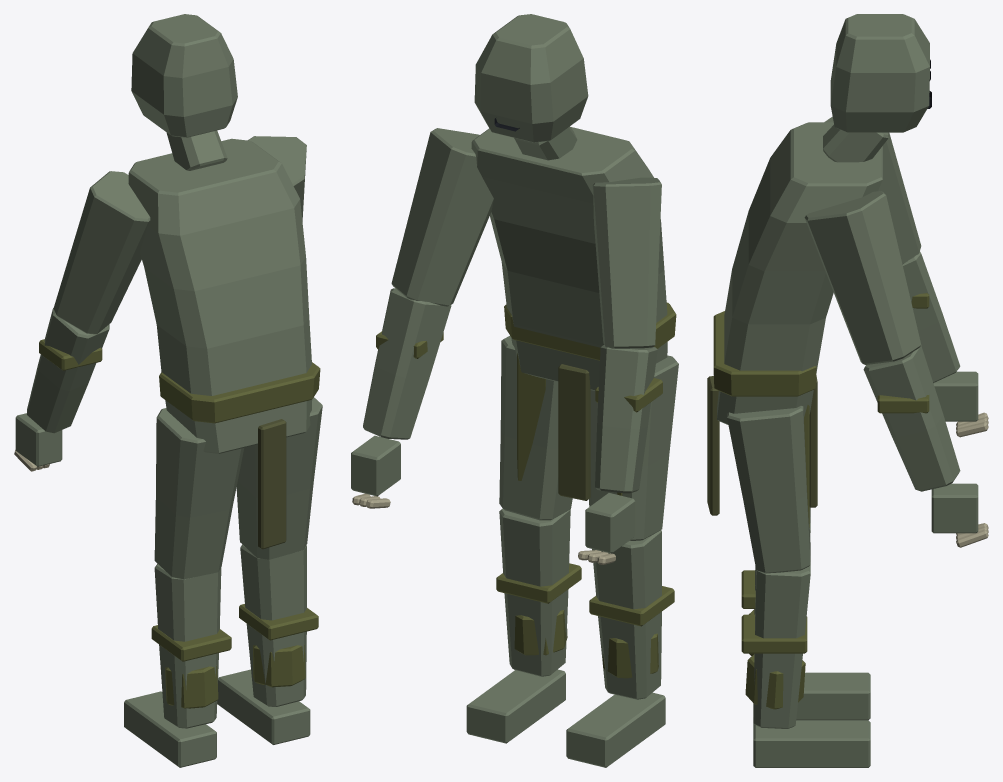
The model's file is mdl_mon_walker_normal_v1.glb.
3 views of the same model, side by side, from view 1: azimuth 30°, elevation 25°; view 2: azimuth 150°, elevation 25°; view 3: azimuth 270°, elevation 25° (orthographic). The views are drawn at different scales.
Parts seen in each view (by area): view 1: GEO_Mon_Body, GEO_Mon_Gear; view 2: GEO_Mon_Body, GEO_Mon_Gear; view 3: GEO_Mon_Body, GEO_Mon_Gear.
Part boxes in pixels (x1,y1,x2,y2): GEO_Mon_Body: (14,14,322,767); GEO_Mon_Gear: (39,339,320,708); GEO_Mon_Body: (351,14,678,767); GEO_Mon_Gear: (376,302,676,678); GEO_Mon_Body: (717,14,988,767); GEO_Mon_Gear: (707,293,929,709).
Size of the model in its own units: 0.694 by 1.79 by 0.642.
